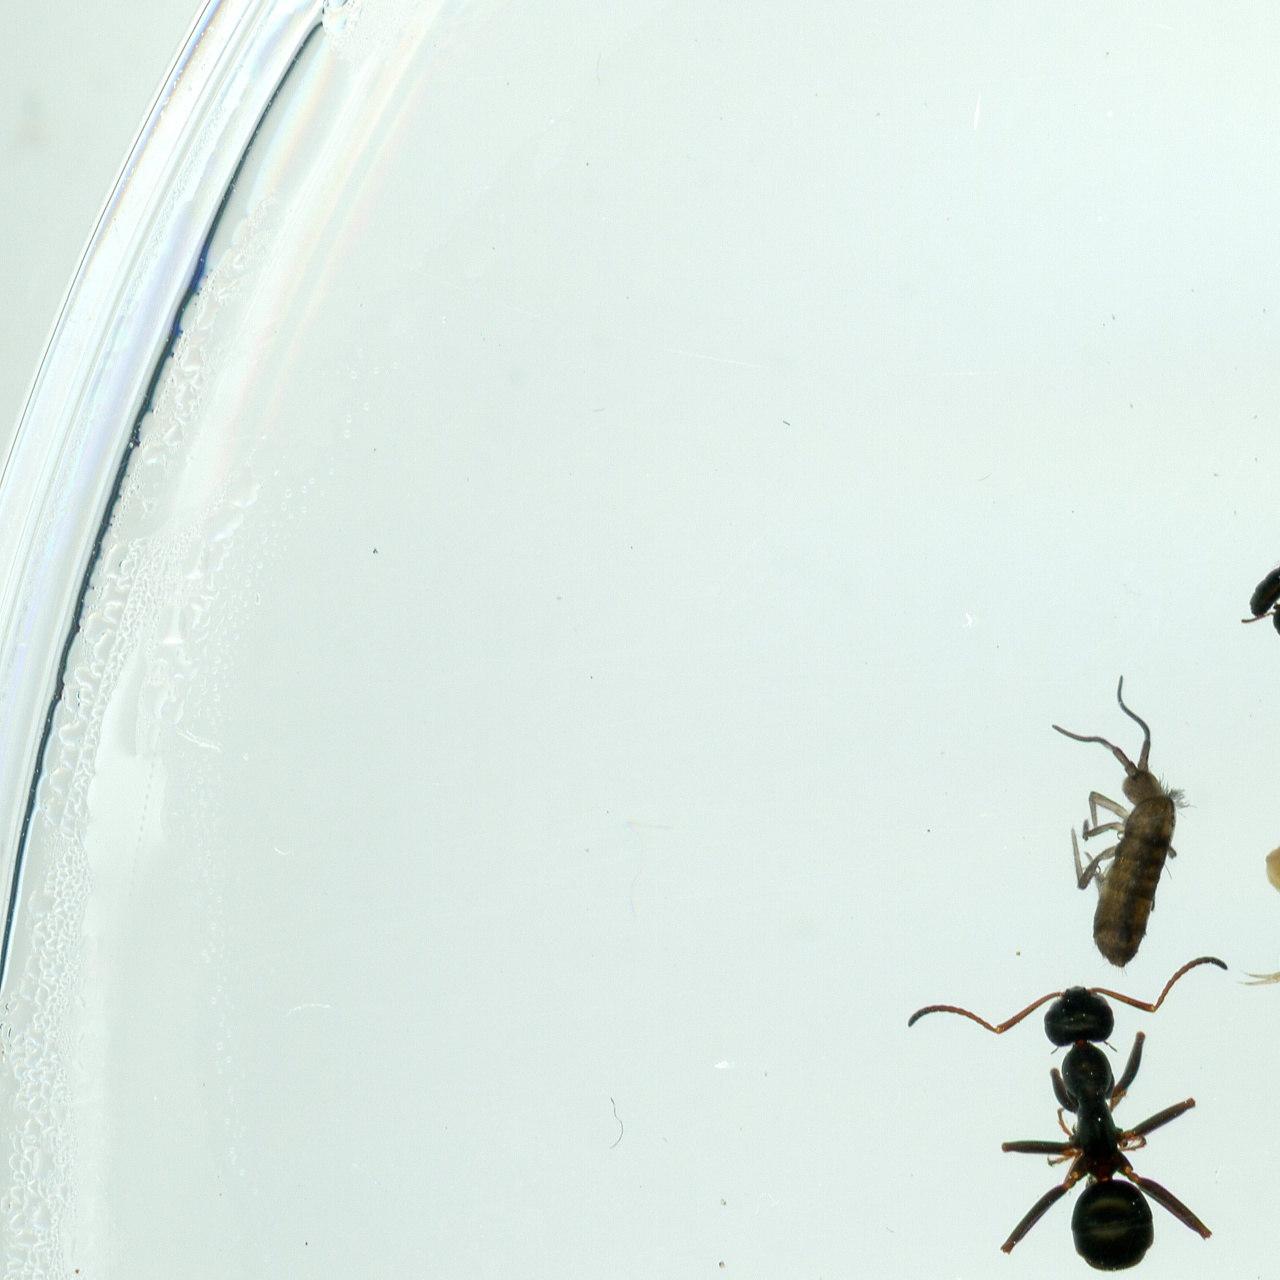arthropod: (907, 955, 1231, 1273), (1050, 674, 1192, 965), (1238, 934, 1280, 1050), (1241, 550, 1280, 625), (1267, 604, 1280, 648)
